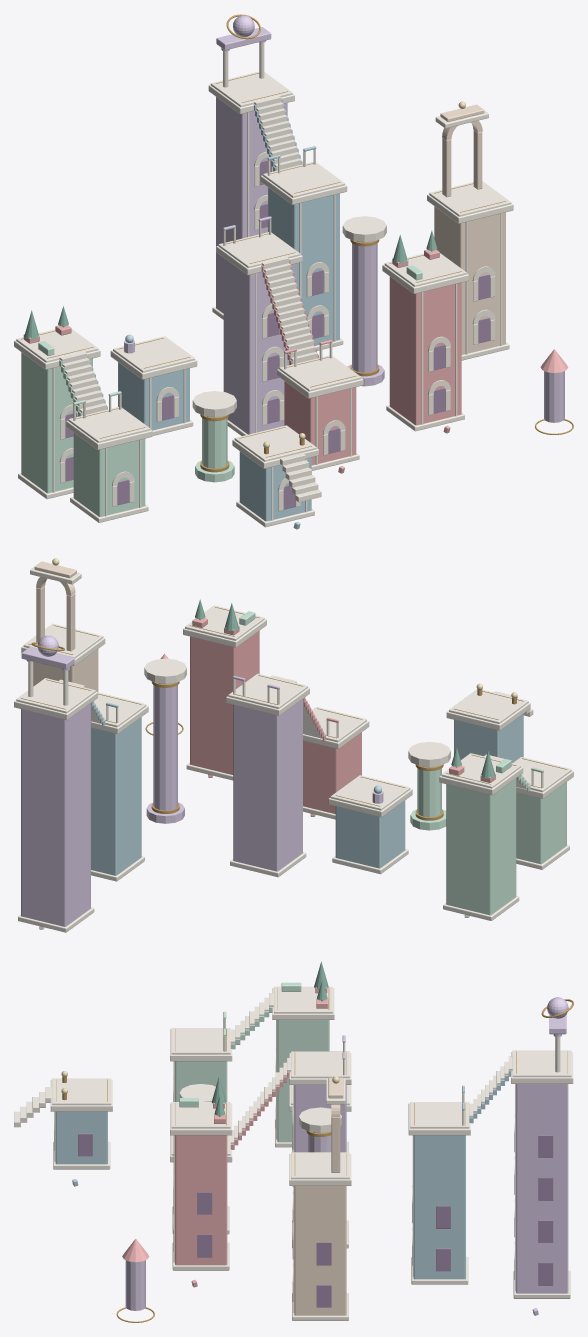
File: court_3.glb
3 renders of one model, top to bottom at view 1: azimuth 30°, elevation 25°; view 2: azimuth 150°, elevation 25°; view 3: azimuth 270°, elevation 25°, orthographic. The views are drawn at different scales.
Visible parts, largest first — view 1: upper_south shaft, upper_west shaft, star shaft, upper_north shaft, exit shaft, garden shaft, west shaft, transfer shaft, upper_dial column, switch shaft, start shaft, transfer roof tile (+19 smaller); view 2: star shaft, upper_west shaft, garden shaft, upper_north shaft, upper_south shaft, switch shaft, west shaft, transfer shaft, upper_dial column, start shaft, start roof tile, upper_west roof tile (+25 smaller); view 3: star shaft, upper_north shaft, upper_south shaft, exit shaft, garden shaft, start shaft, upper_west shaft, start roof tile, star roof tile, upper_west roof tile, upper_north roof tile, west roof tile (+17 smaller).
Boxes of the visible parts, x1,y1,x2,y2 form: upper_south shaft: (389,276,461,425); upper_west shaft: (223,258,295,434); star shaft: (216,97,287,313); upper_north shaft: (268,187,339,345); exit shaft: (434,206,505,354); garden shaft: (21,352,92,493); west shaft: (73,433,145,516); transfer shaft: (284,381,356,465); upper_dial column: (352,241,377,372); switch shaft: (118,362,189,430); start shaft: (239,451,311,521); transfer roof tile: (279,355,361,391); star shaft: (21,703,90,926); upper_west shaft: (233,699,302,871); garden shaft: (446,778,516,915); upper_north shaft: (91,717,141,875); upper_south shaft: (190,631,259,774); switch shaft: (335,800,405,868); west shaft: (516,782,566,864); transfer shaft: (303,732,361,813); upper_dial column: (153,683,177,810); start shaft: (454,714,523,762); start roof tile: (449,689,528,723); upper_west roof tile: (228,673,307,708); star shaft: (516,1084,568,1293); upper_north shaft: (413,1135,465,1279); upper_south shaft: (175,1135,227,1265); exit shaft: (294,1186,346,1315); garden shaft: (277,1020,329,1142); start shaft: (55,1111,107,1164); upper_west shaft: (294,1085,346,1152); start roof tile: (52,1078,111,1105); star roof tile: (512,1050,571,1077); upper_west roof tile: (291,1051,349,1078); upper_north roof tile: (410,1102,469,1128); west roof tile: (171,1028,230,1054).
Size of the model in its own units: 19 by 11.96 by 19.7.
